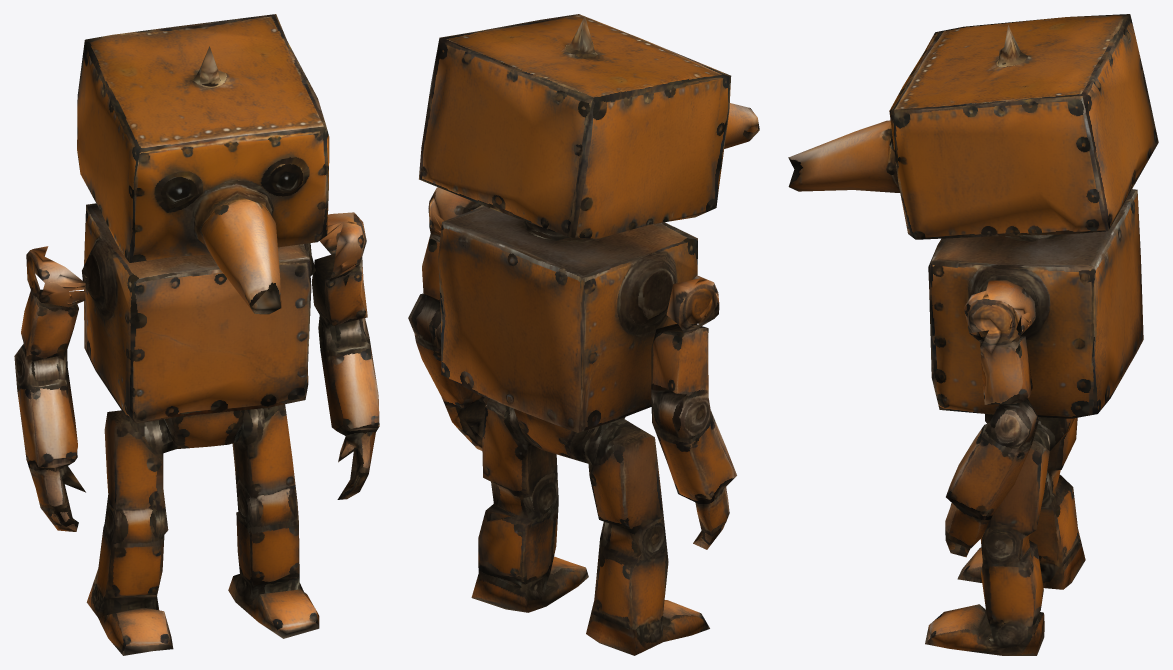
The model's file is copper_golem_single_1500.glb.
3 views of the same model, side by side, from view 1: azimuth 30°, elevation 25°; view 2: azimuth 150°, elevation 25°; view 3: azimuth 270°, elevation 25° (orthographic). The views are drawn at different scales.
Size of the model in its own units: 0.4531 by 0.7815 by 0.4456.
1 material, 1 textured.
